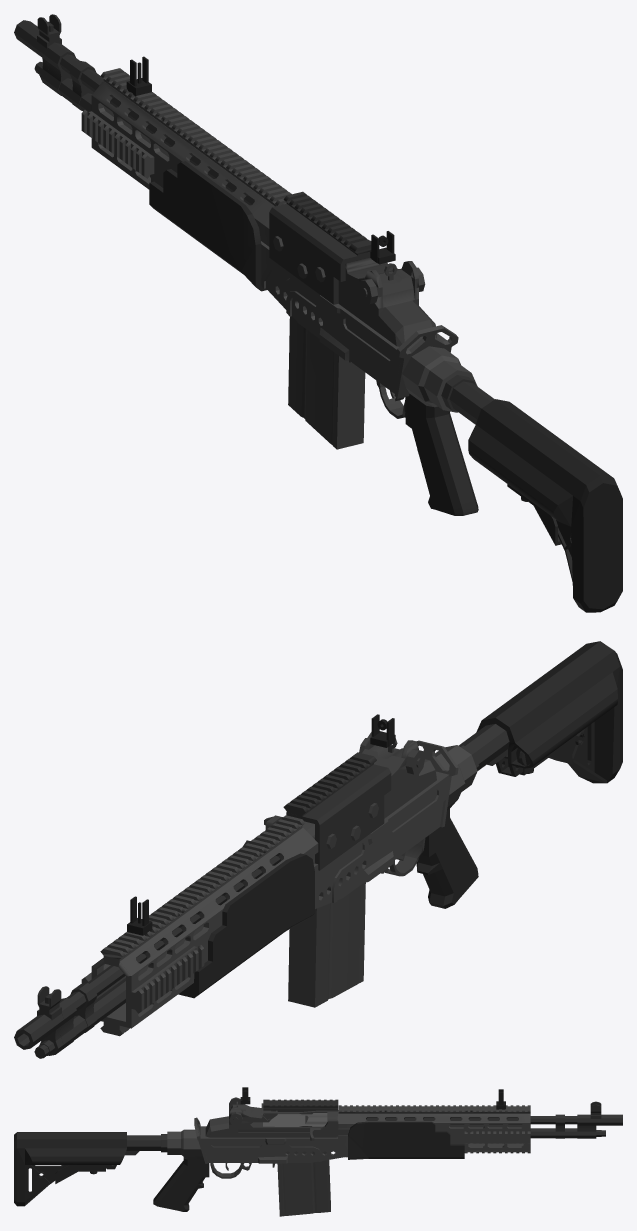
3 views of the same model, one above another, from view 1: azimuth 30°, elevation 25°; view 2: azimuth 150°, elevation 25°; view 3: azimuth 270°, elevation 25° (orthographic). The views are drawn at different scales.
Parts seen in each view (by area): view 1: Barrel_Connector.001; view 2: Barrel_Connector.001; view 3: Barrel_Connector.001.
Boxes of the visible parts, bbox=[...] form: Barrel_Connector.001: bbox=[14, 14, 622, 612]; Barrel_Connector.001: bbox=[14, 641, 622, 1058]; Barrel_Connector.001: bbox=[14, 1087, 622, 1216].
Size of the model in its own units: 0.0852 by 0.224 by 1.
Materials: 7 (7 with a texture image).
